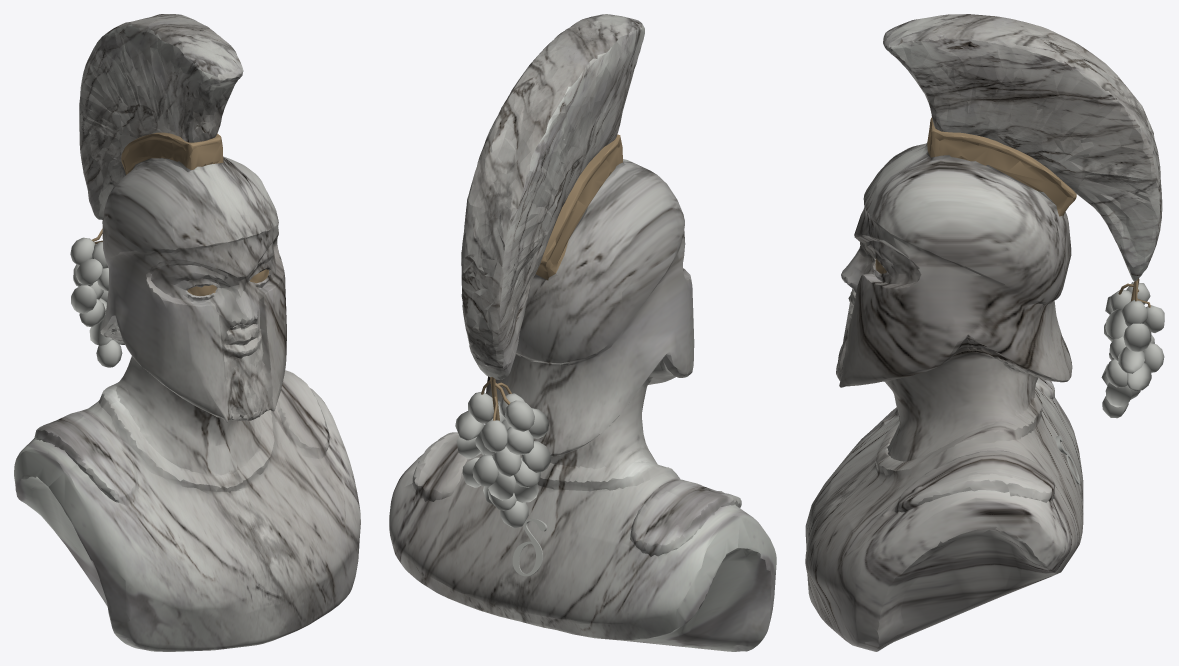
File: statue.glb
The picture shows the model from 3 angles, left to right: view 1: azimuth 30°, elevation 25°; view 2: azimuth 150°, elevation 25°; view 3: azimuth 270°, elevation 25°; orthographic projection. The views are drawn at different scales.
Parts seen in each view (by area): view 1: Statue; view 2: Statue; view 3: Statue.
Boxes of the visible parts, <box> form: Statue: <box>14,14,360,651</box>; Statue: <box>389,14,776,651</box>; Statue: <box>805,14,1164,651</box>.
Bounding box in the file's own units: 0.598 × 1.15 × 0.6369.
2 materials, 2 textured.
